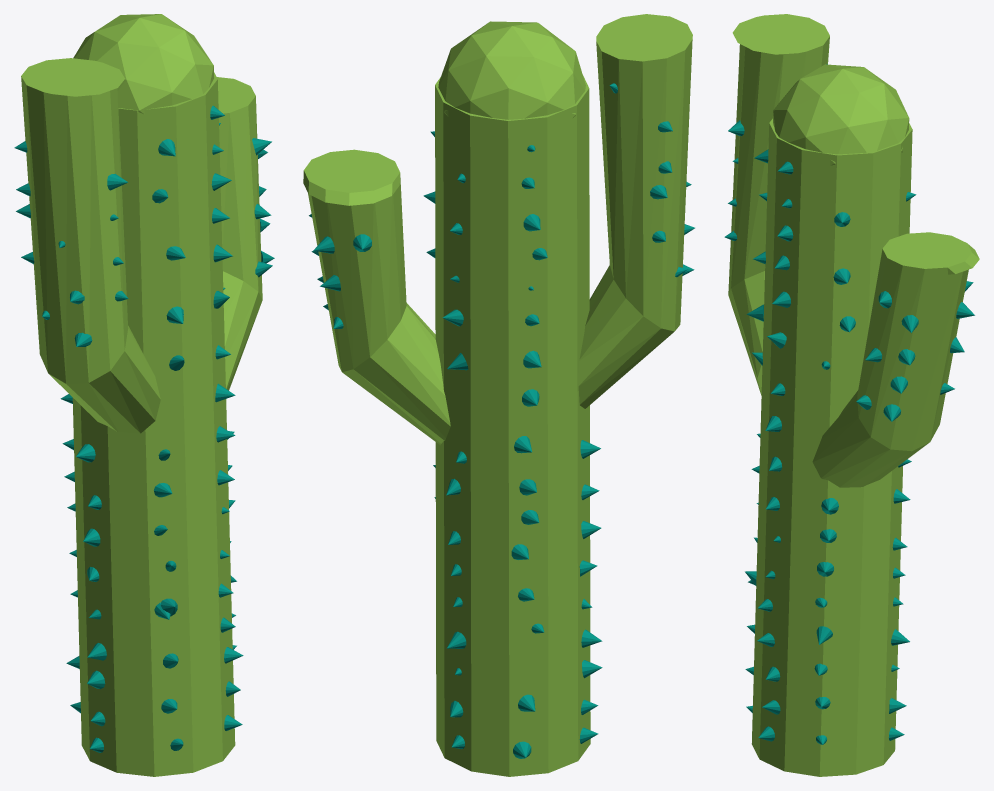
The picture shows the model from 3 angles, left to right: view 1: azimuth 30°, elevation 25°; view 2: azimuth 150°, elevation 25°; view 3: azimuth 270°, elevation 25°; orthographic projection. The views are drawn at different scales.
Visible parts, largest first — view 1: default; view 2: default; view 3: default.
Boxes of the visible parts, x1,y1,x2,y2 form: default: (14,14,274,776); default: (303,14,694,776); default: (724,14,979,776).
Bounding box in the file's own units: 0.3709 × 0.8319 × 0.285.
